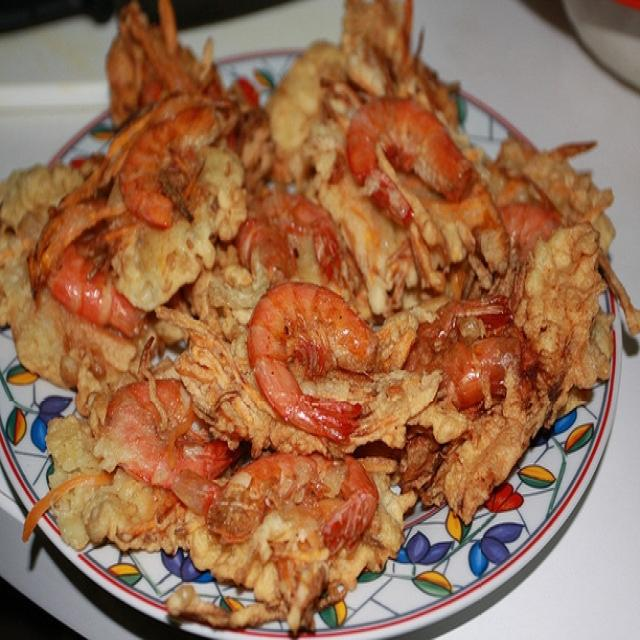炸货点心: (5, 16, 623, 629)
熟制海鲜: (5, 16, 623, 629)
